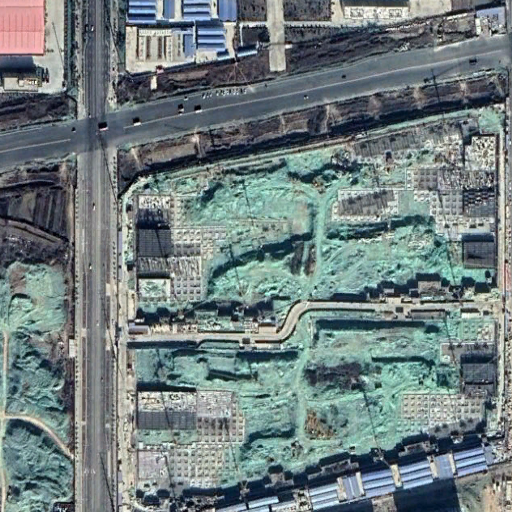cw: (128, 105, 502, 497), (4, 260, 73, 512)
